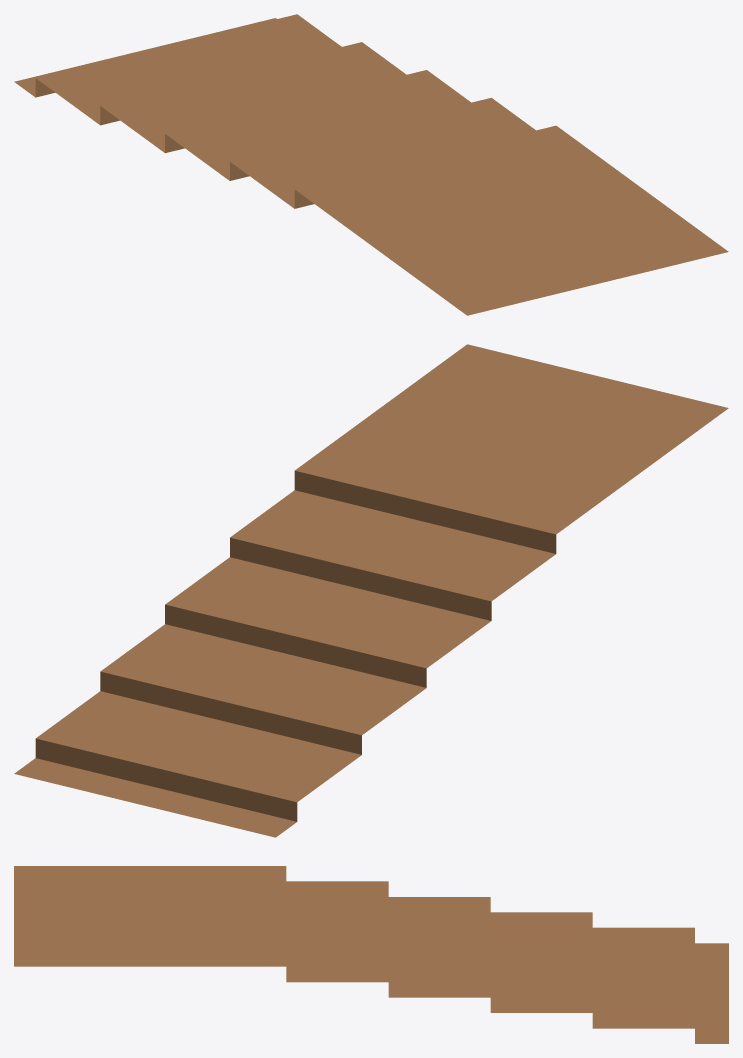
The model's file is M_HallFloor01.fbx.
3 views of the same model, one above another, from view 1: azimuth 30°, elevation 25°; view 2: azimuth 150°, elevation 25°; view 3: azimuth 270°, elevation 25° (orthographic). The views are drawn at different scales.
Parts seen in each view (by area): view 1: M_HallFloor01; view 2: M_HallFloor01; view 3: M_HallFloor01.
Part boxes in pixels (box(x1,y1,x2,y2)): M_HallFloor01: box(14, 14, 728, 315); M_HallFloor01: box(14, 344, 728, 837); M_HallFloor01: box(14, 866, 728, 1043).
Size of what is drawn, in the model's own units: 350 by 1050 by 125.
